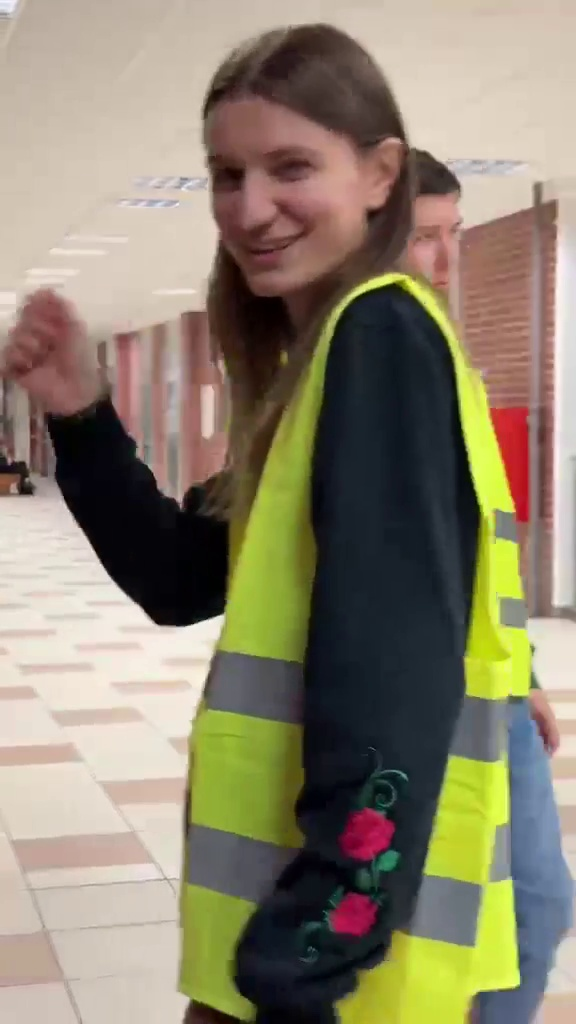vest: (152, 37, 506, 999)
